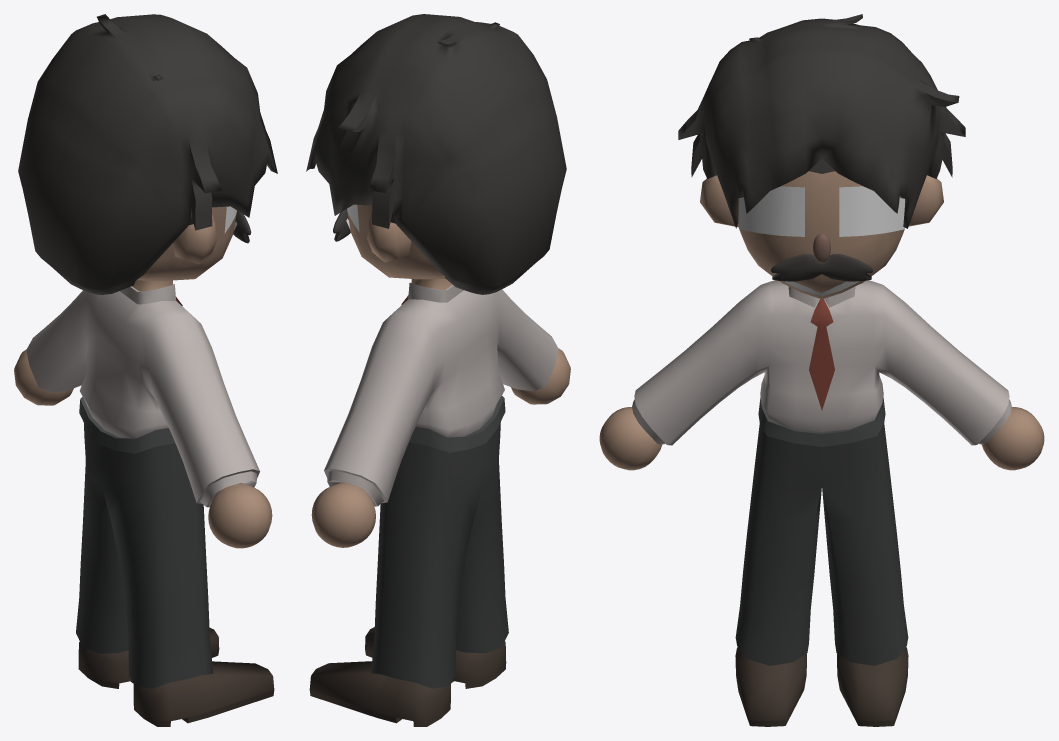
The model's file is Reggie.fbx.
3 renders of one model, left to right at view 1: azimuth 30°, elevation 25°; view 2: azimuth 150°, elevation 25°; view 3: azimuth 270°, elevation 25°, orthographic. The views are drawn at different scales.
Visible parts, largest first — view 1: Business man; view 2: Business man; view 3: Business man, eyes + mouth card.
Part boxes in pixels (box(x1,y1,x2,y2)): Business man: box(14, 14, 277, 726); Business man: box(306, 14, 570, 726); Business man: box(599, 14, 1044, 726); eyes + mouth card: box(739, 186, 904, 296).
Size of the model in its own units: 95.98 by 298 by 183.
Materials: 1 (1 with a texture image).
